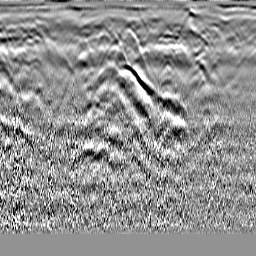cavity: (117, 25, 139, 47)
